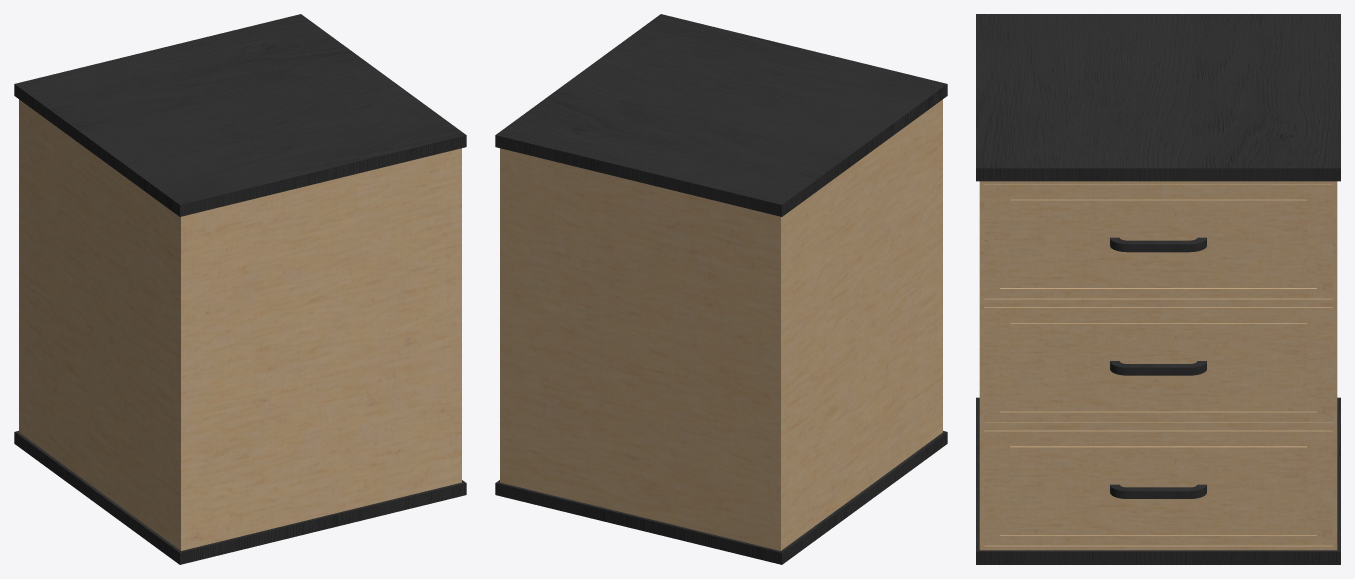
File: single_stand.obj
3 renders of one model, left to right at view 1: azimuth 30°, elevation 25°; view 2: azimuth 150°, elevation 25°; view 3: azimuth 270°, elevation 25°, orthographic. The views are drawn at different scales.
Visible parts, largest first — view 1: single_stand; view 2: single_stand; view 3: single_stand, latch_2, latch_3, latch_1.
Boxes of the visible parts, box(x1,y1,x2,y2) form: single_stand: box(14, 14, 466, 564); single_stand: box(495, 14, 947, 564); single_stand: box(976, 14, 1340, 564); latch_2: box(984, 430, 1332, 545); latch_3: box(984, 307, 1332, 422); latch_1: box(984, 184, 1332, 298).
Bounding box in the file's own units: 1.03 × 1.2 × 1.
2 materials, 2 textured.
